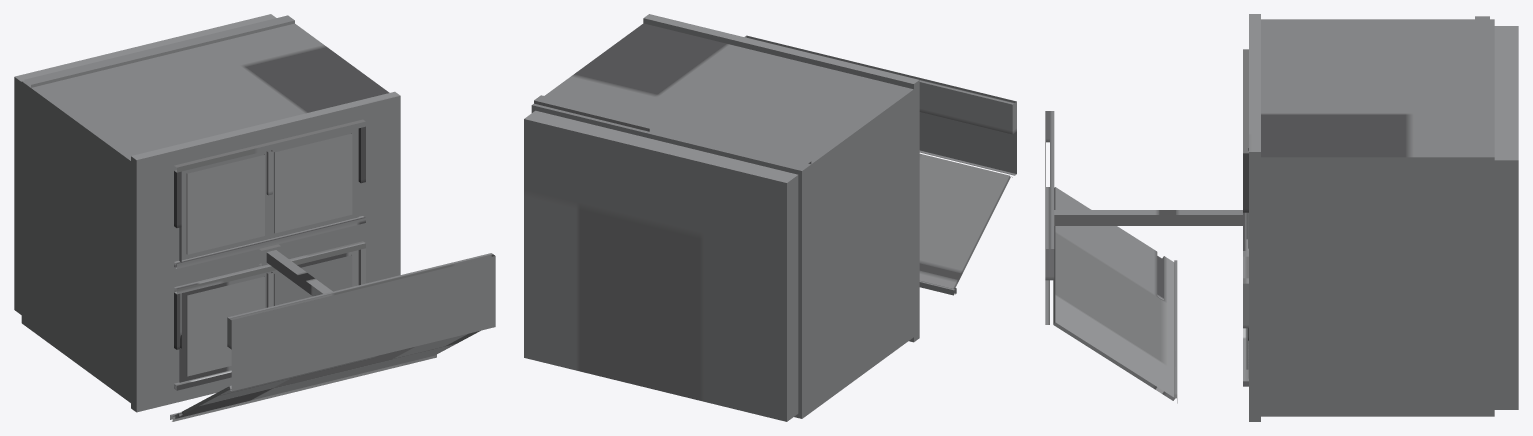
3 views of the same model, side by side, from view 1: azimuth 30°, elevation 25°; view 2: azimuth 150°, elevation 25°; view 3: azimuth 270°, elevation 25° (orthographic). The views are drawn at different scales.
Bounding box in the file's own units: 1.09 × 1 × 1.58.
